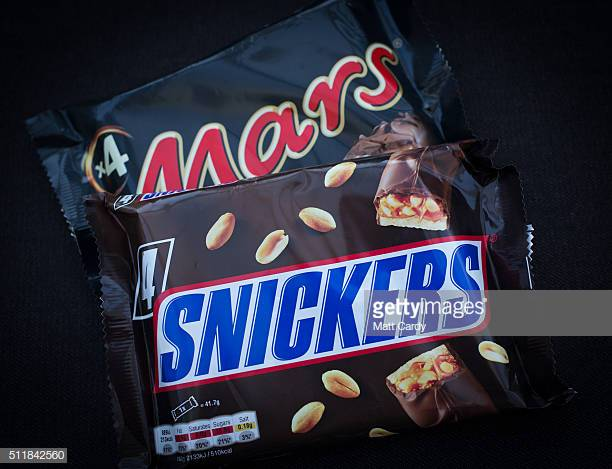snickers: (158, 243, 480, 383)
